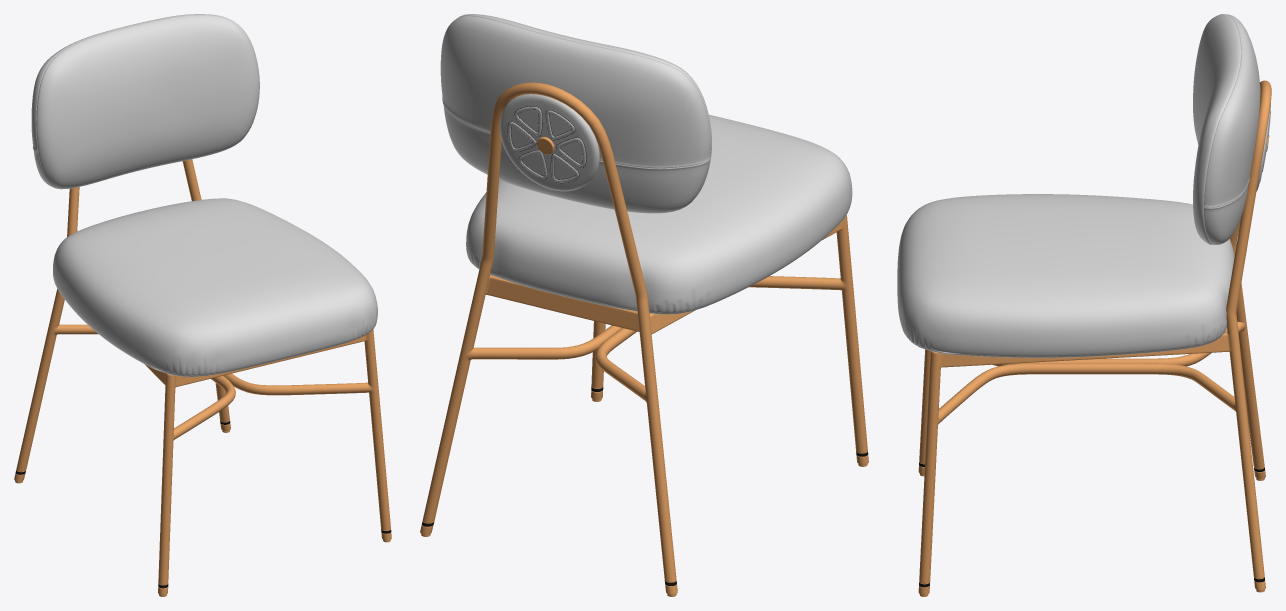
Rendered from SLN_GRAND-THEORY-2-DC.glb.
3 views of the same model, side by side, from view 1: azimuth 30°, elevation 25°; view 2: azimuth 150°, elevation 25°; view 3: azimuth 270°, elevation 25° (orthographic). The views are drawn at different scales.
Visible parts, largest first — view 1: GRAND THEORY 2 DC; view 2: GRAND THEORY 2 DC; view 3: GRAND THEORY 2 DC.
Part boxes in pixels (x1,y1,x2,y2): GRAND THEORY 2 DC: (14, 14, 391, 596); GRAND THEORY 2 DC: (420, 14, 868, 596); GRAND THEORY 2 DC: (897, 14, 1271, 596).
Size of the model in its own units: 0.4558 by 0.8038 by 0.5645.
